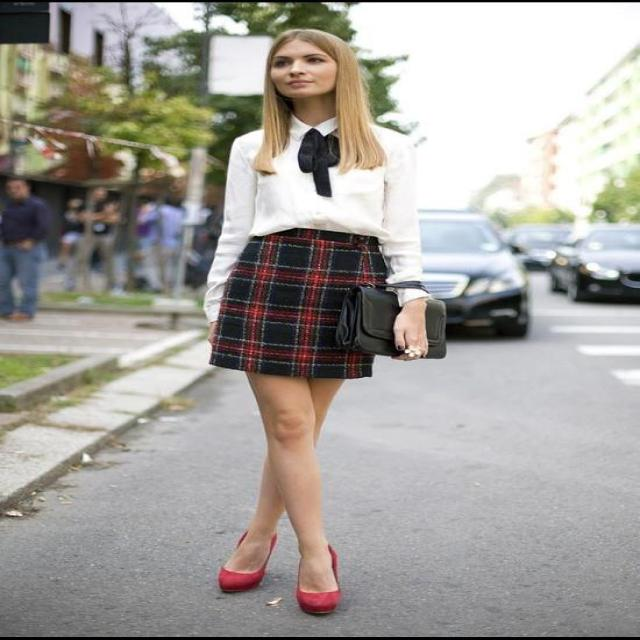shirt: (203, 112, 432, 324)
skirt: (210, 229, 390, 379)
